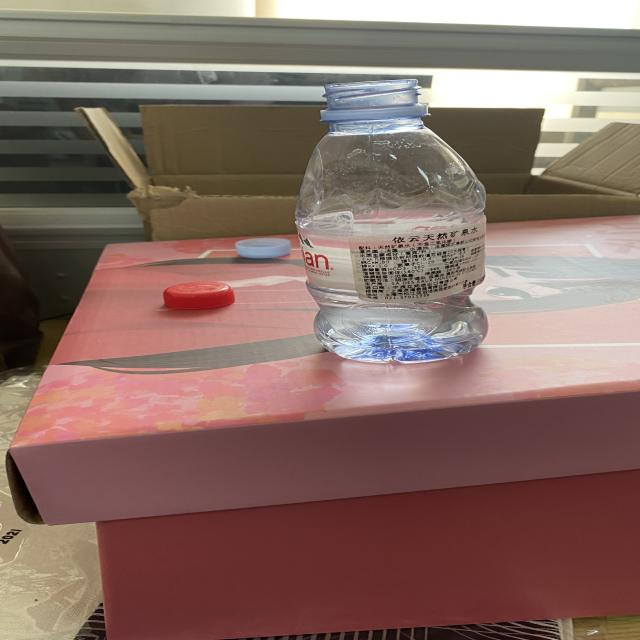Anorganik: (289, 61, 532, 390)
